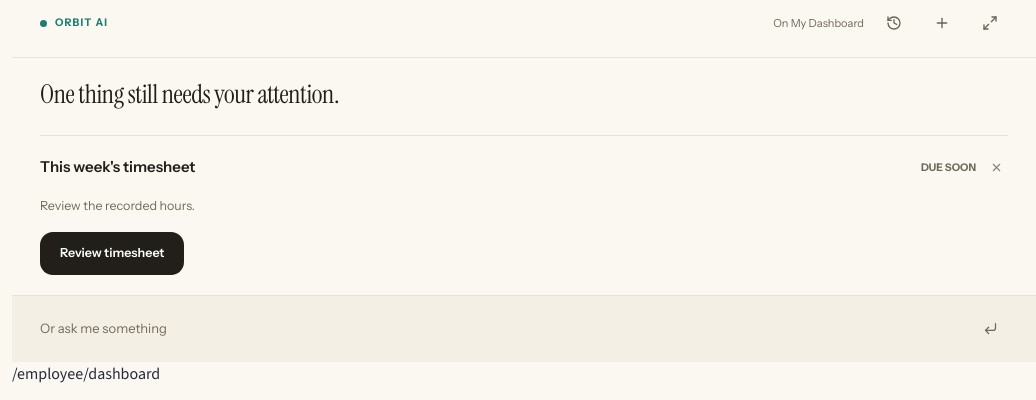
Test case: OrbitAIBriefing panel layout and scrolling › treats briefing actions as navigation only
Click the button "Review timesheet": [112, 253] box [40,232,184,275]
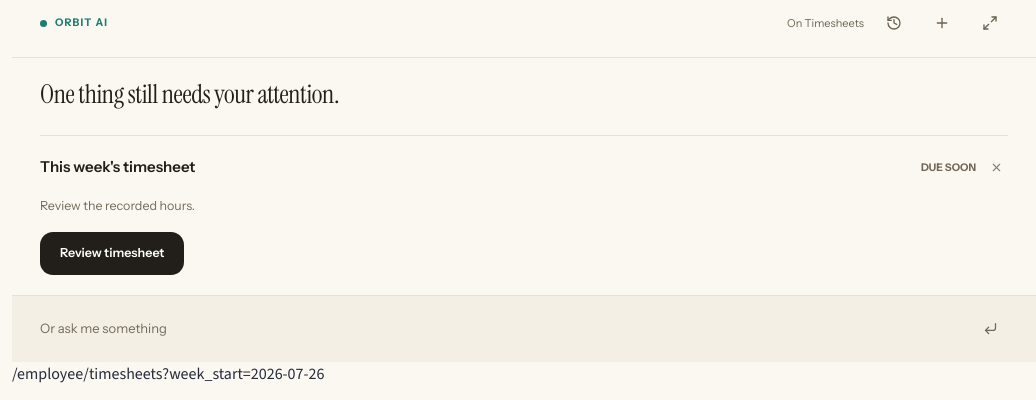
Now the text named "Current path" reads "/employee/timesheets?week_start=2026-07-26", box [12,362,324,384]
